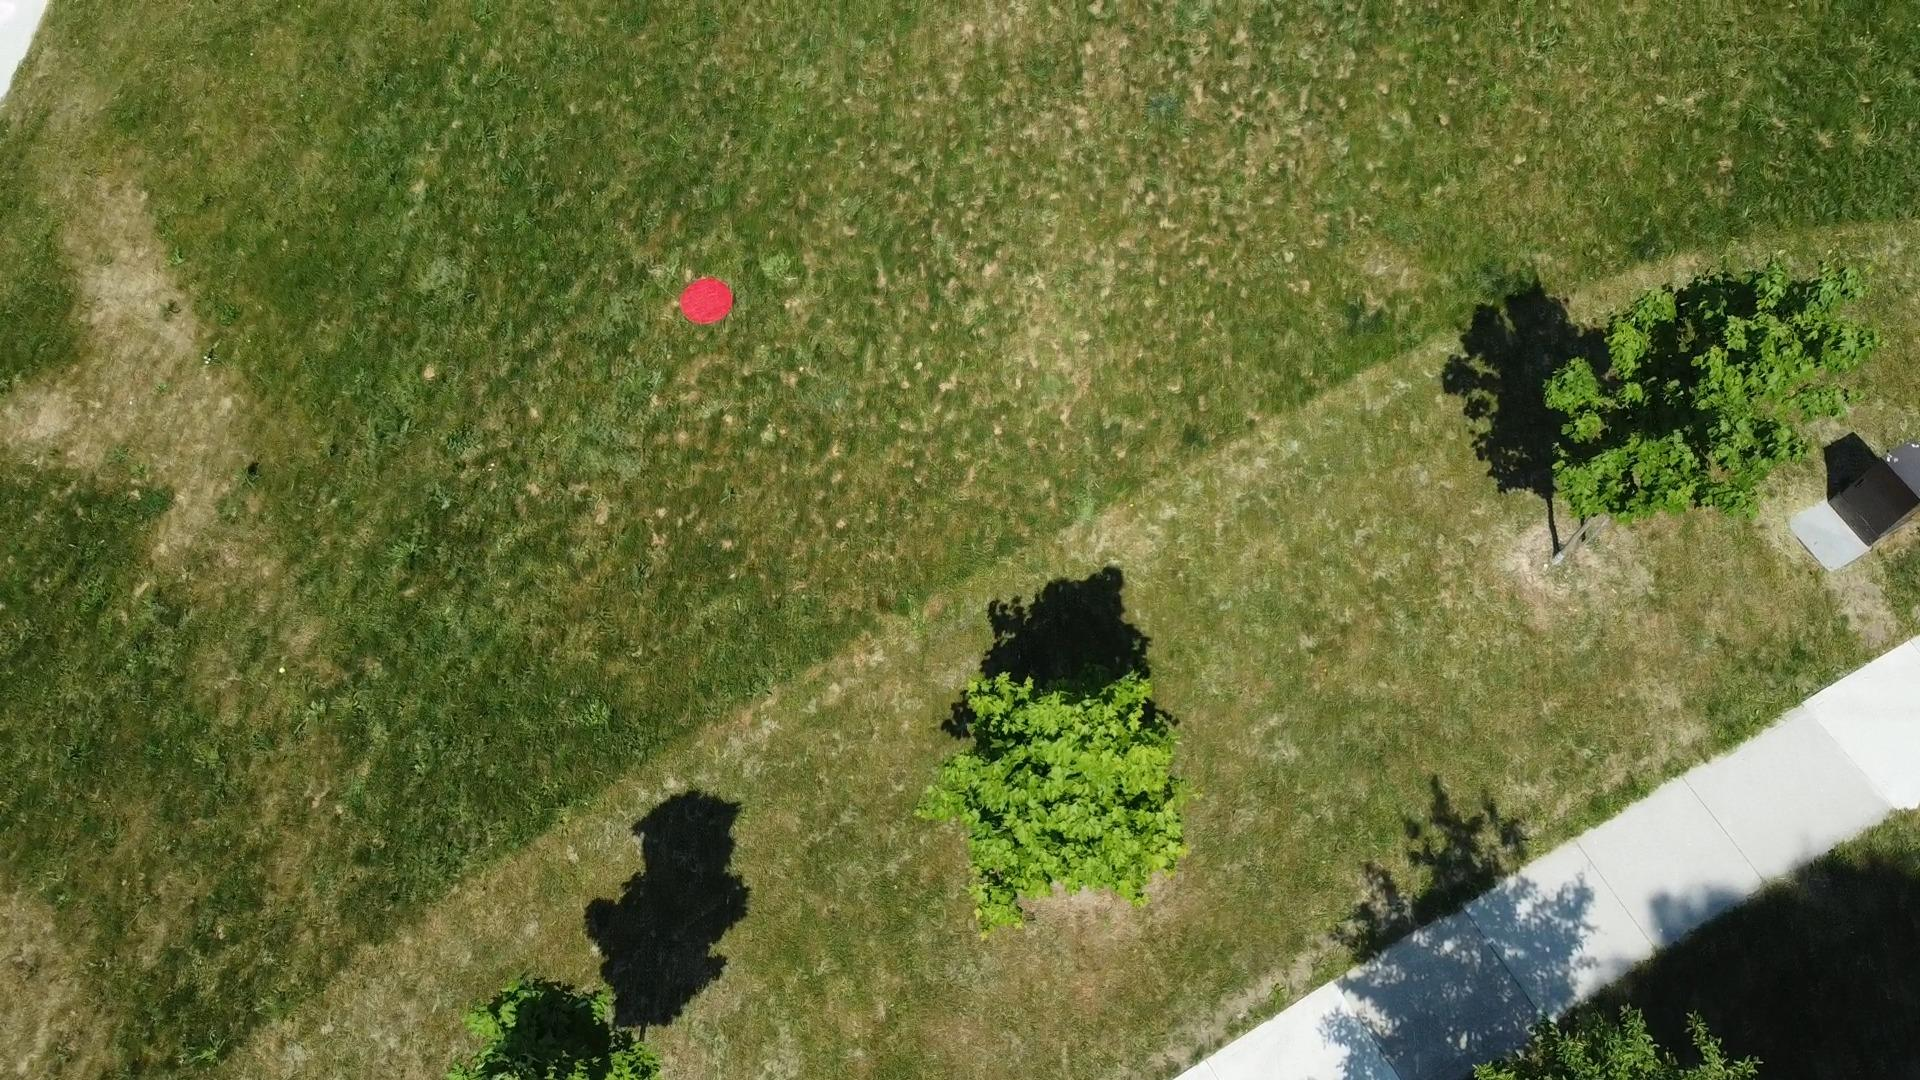Red: (676, 274, 737, 328)
